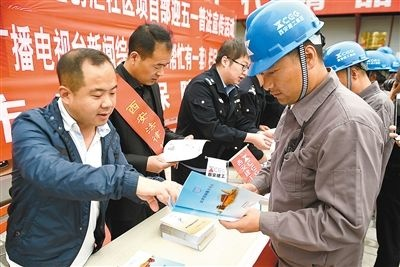blue: (242, 1, 322, 104), (323, 40, 367, 94)
none: (54, 46, 116, 126), (124, 21, 173, 87), (214, 38, 250, 87)
